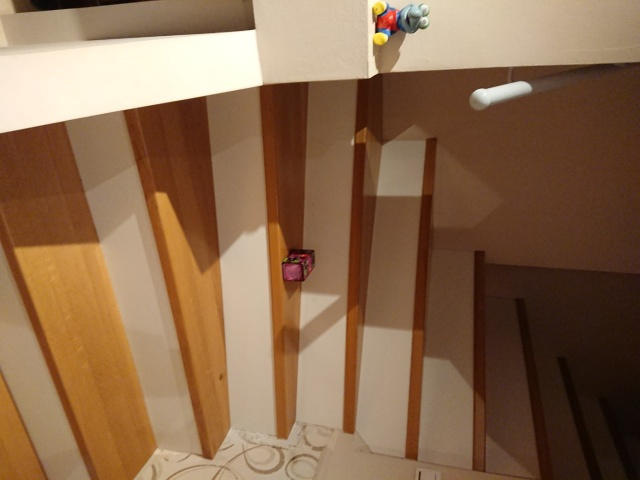Franck Black Currant Tea 60g: (279, 247, 317, 284)
